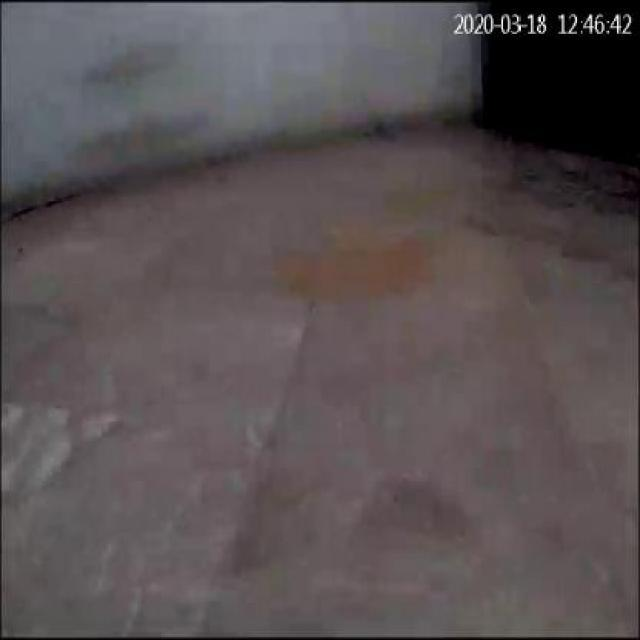spill: (275, 226, 433, 302)
